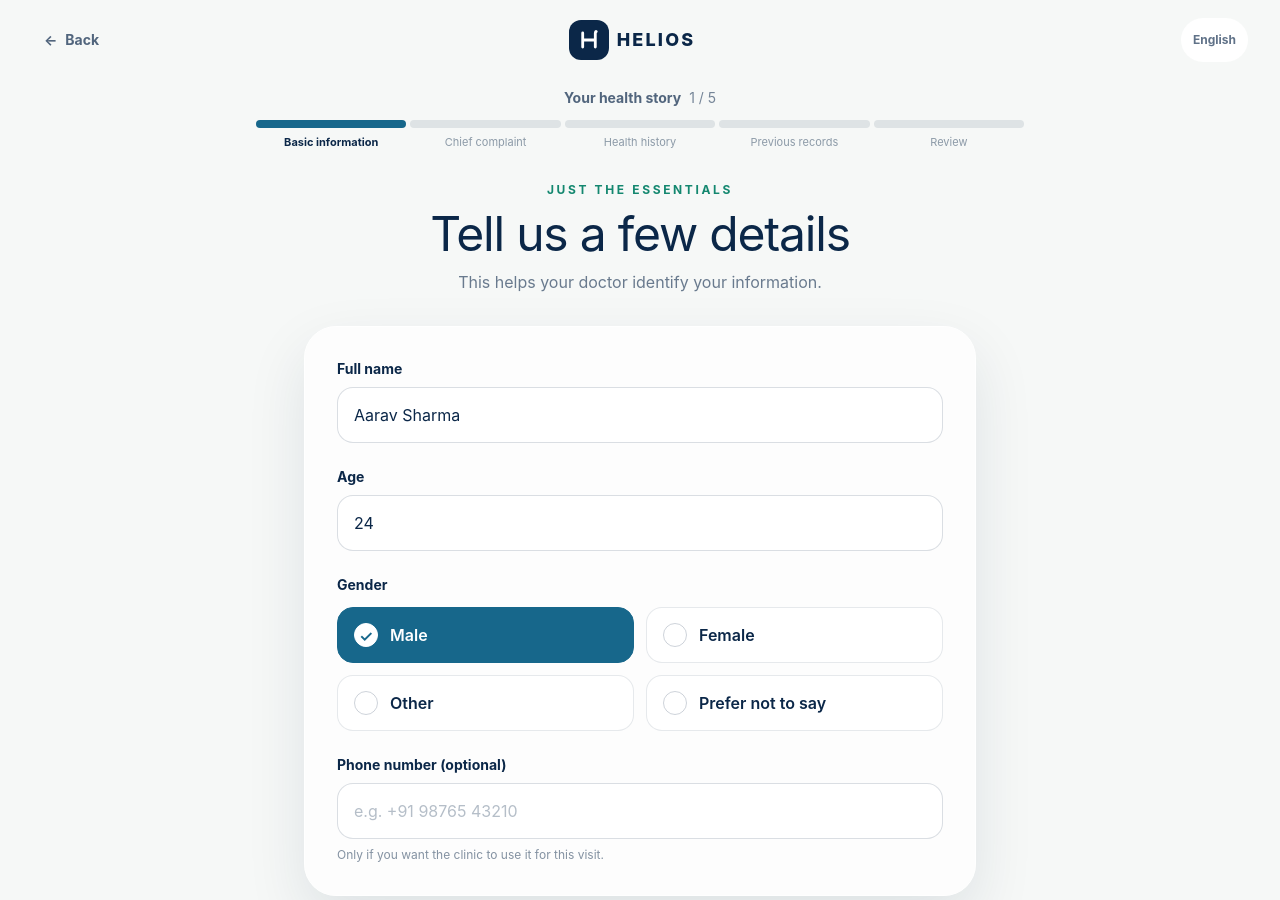
patient experience › shows friendly validation errors
This screenshot has width=1280, height=900.
Replace the text in the field labelled "Full name" with "1" at (640, 415), box [337,387,943,443]
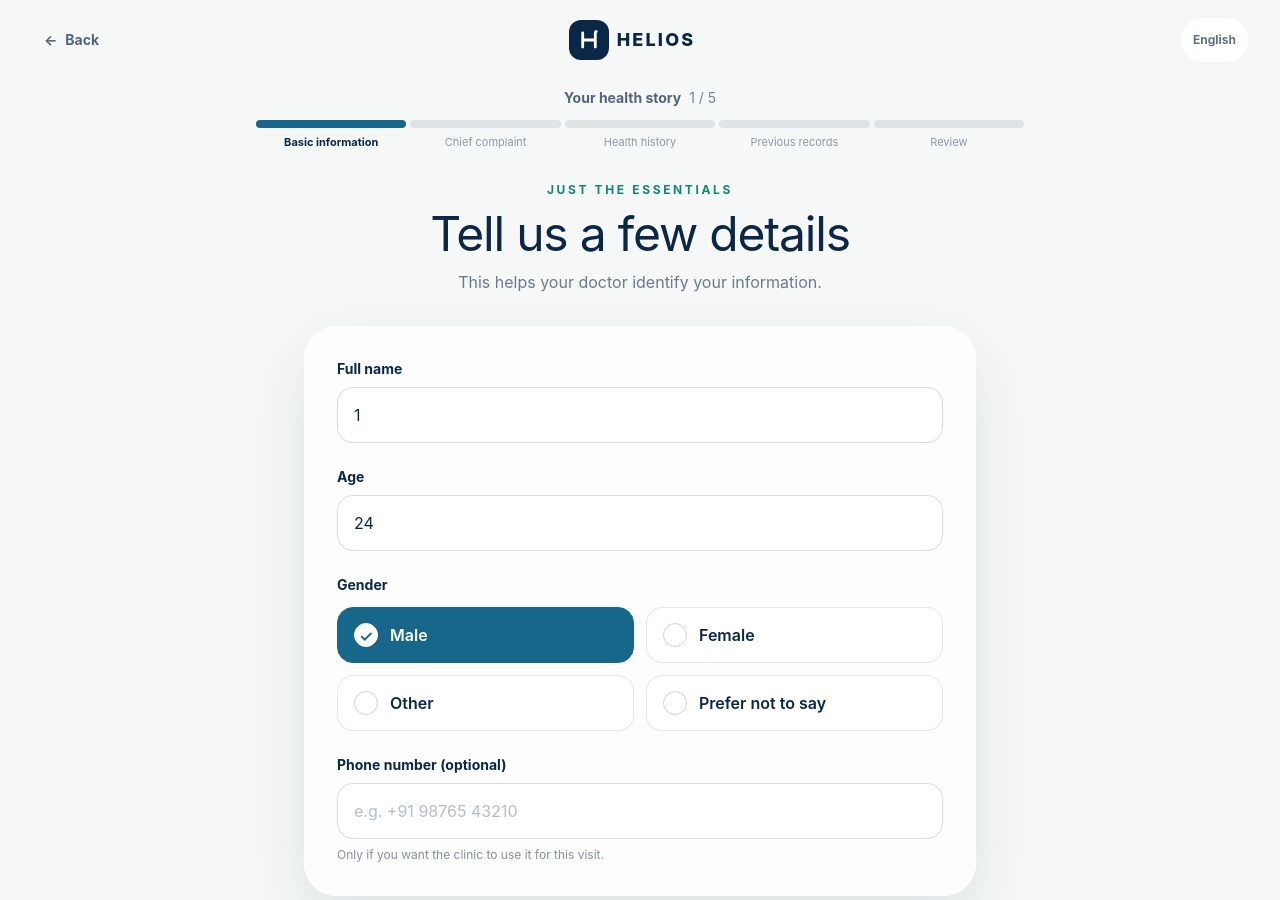
Clear the field labelled "Age" at (640, 523), box [337,495,943,551]
(page scrolled)
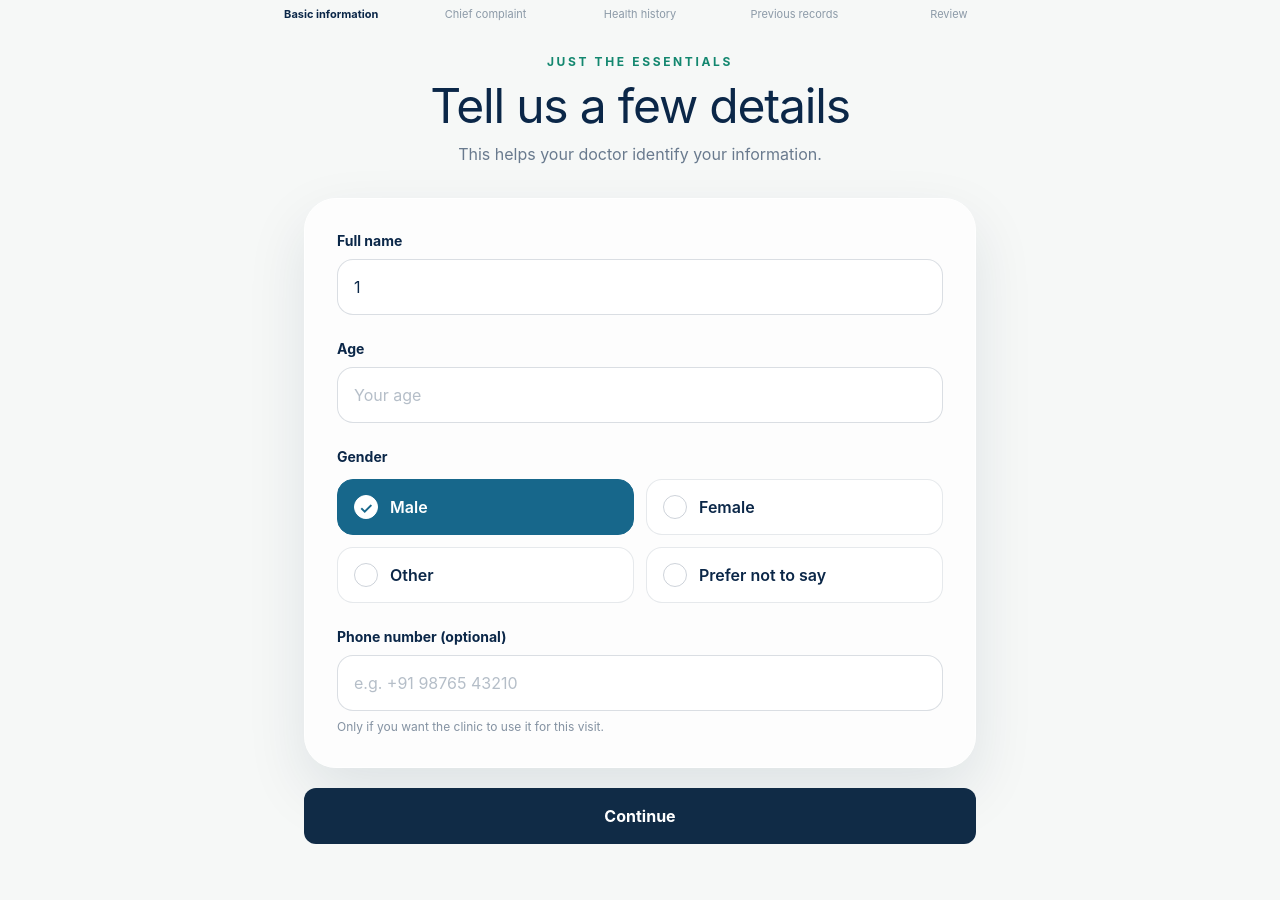
Click the button "Continue" at (640, 816), box [304,788,976,844]
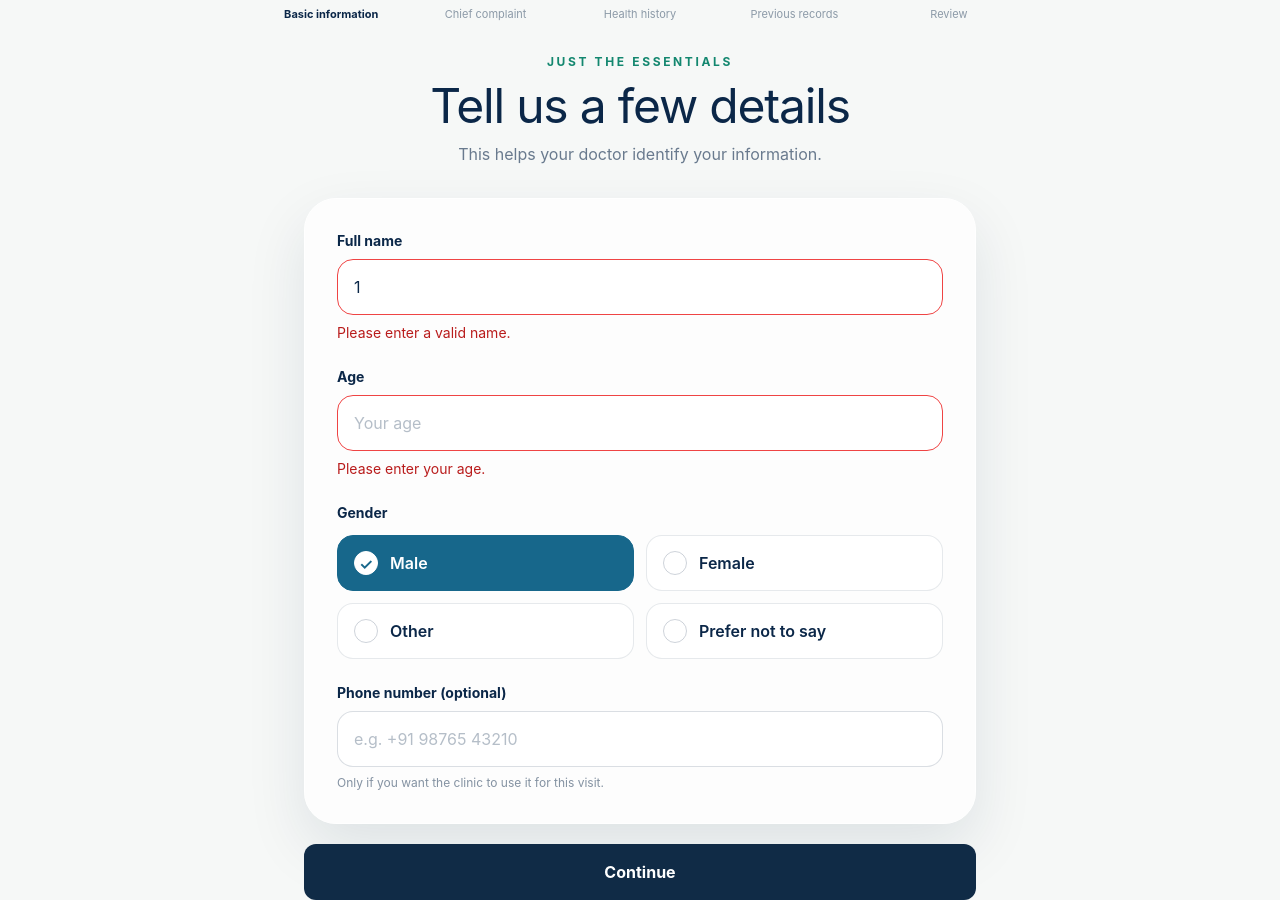
Result: the text "Please enter a valid name." is shown at [337,324,511,341]
Result: the text "Please enter your age." is shown at [337,460,485,477]
